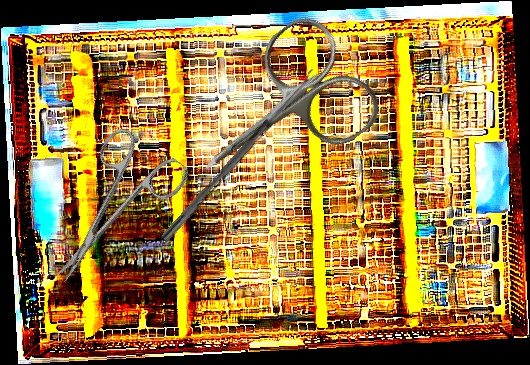Iris Scissors: (165, 7, 390, 220), (22, 118, 193, 305)
Surgical Spoon: (160, 68, 320, 244)
